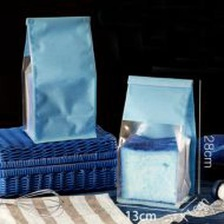snack: (108, 67, 200, 214), (15, 7, 101, 147)
